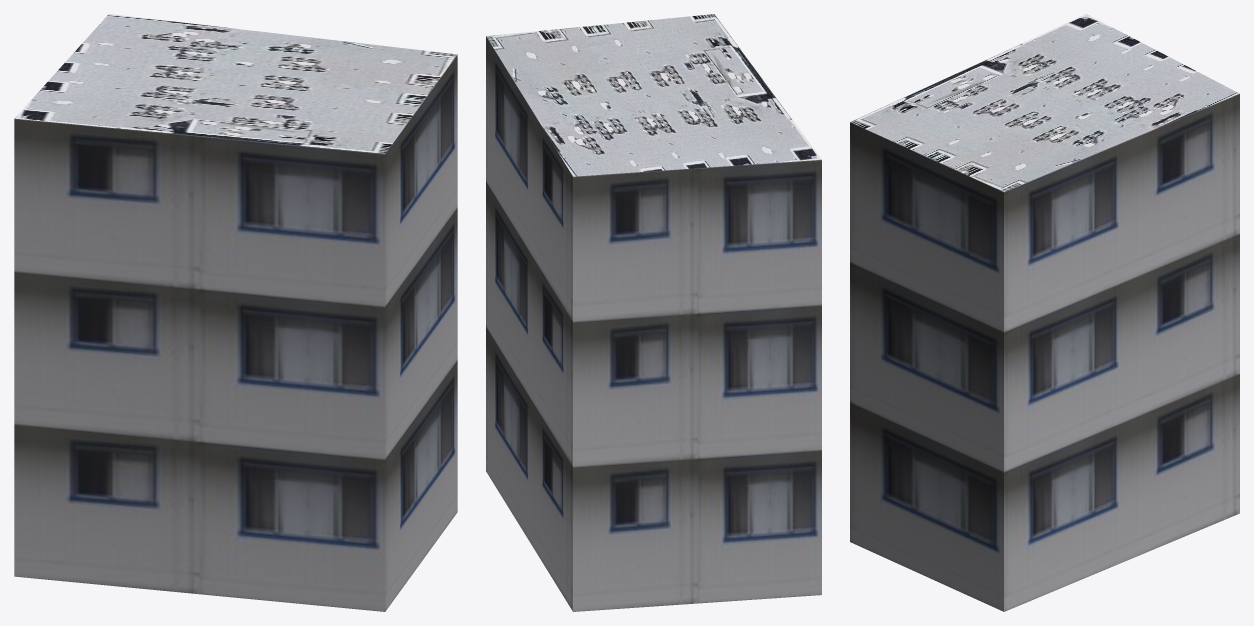
The model's file is ResTex__2889.fbx.
3 renders of one model, left to right at view 1: azimuth 30°, elevation 25°; view 2: azimuth 150°, elevation 25°; view 3: azimuth 270°, elevation 25°, orthographic. The views are drawn at different scales.
Visible parts, largest first — view 1: CityEngineMaterial_9_m, CityEngineMaterial_4_m; view 2: CityEngineMaterial_9_m, CityEngineMaterial_4_m; view 3: CityEngineMaterial_9_m, CityEngineMaterial_4_m.
Part boxes in pixels (bbox=[...]): CityEngineMaterial_9_m: bbox=[14, 55, 457, 611]; CityEngineMaterial_4_m: bbox=[15, 14, 457, 153]; CityEngineMaterial_9_m: bbox=[486, 36, 821, 611]; CityEngineMaterial_4_m: bbox=[486, 14, 821, 176]; CityEngineMaterial_9_m: bbox=[850, 93, 1239, 611]; CityEngineMaterial_4_m: bbox=[850, 14, 1239, 191].
Size of the model in its own units: 8.19 by 9 by 7.57.
Materials: 2 (2 with a texture image).
